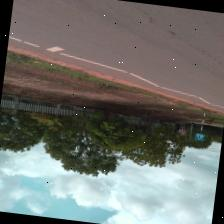blueboard: (197, 132, 206, 140)
crossing: (3, 34, 224, 110)
